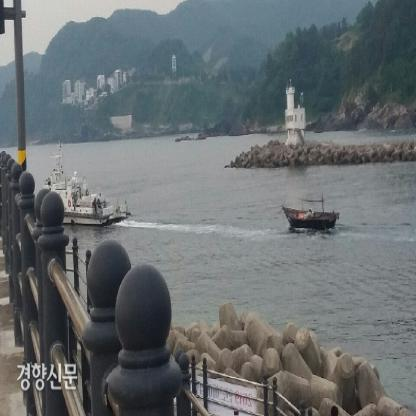fish-b: (279, 190, 341, 234)
